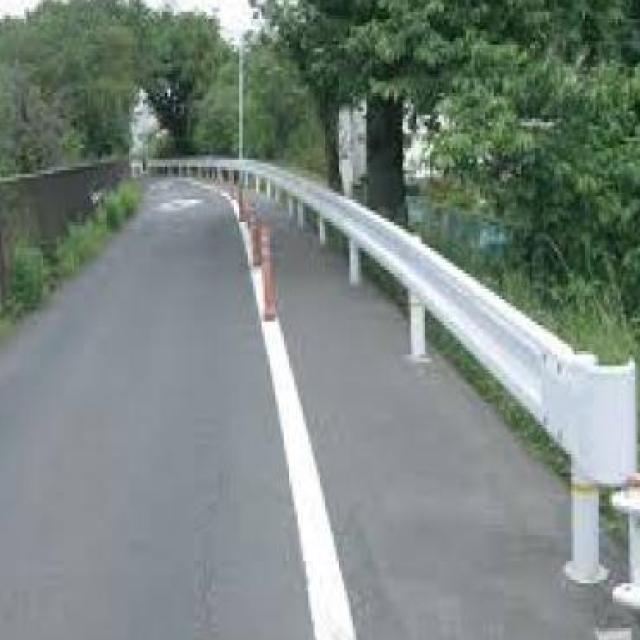Guard rail: (232, 146, 640, 599)
